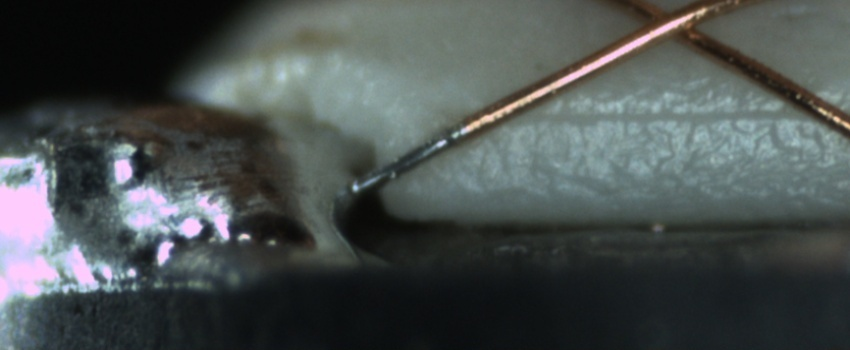CL: (617, 1, 726, 49)
DL: (507, 86, 849, 147)
TS: (350, 123, 467, 195)
